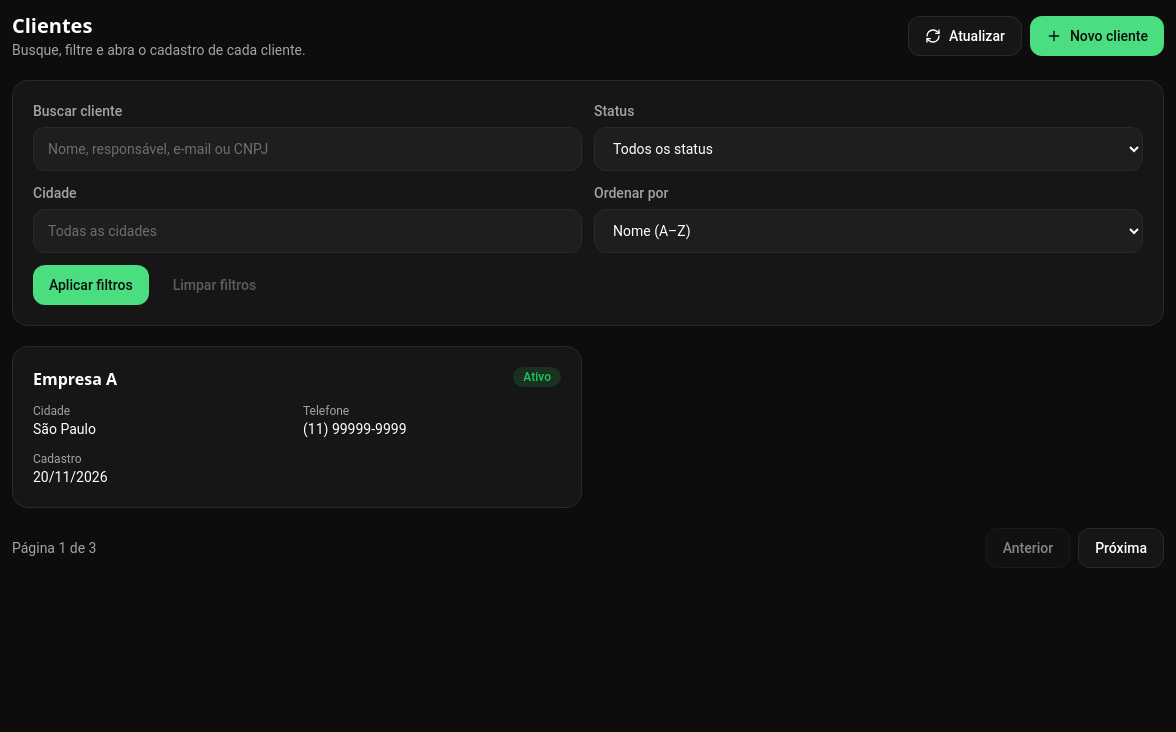
ClientsPage › usa o total do Supabase para habilitar e executar a próxima página
Expected: the link "Empresa A" is shown, [33,368,117,390]
Expected: the message reads "Página 1 de 3", [12,538,96,558]
Click the button "Próxima" at [1121, 548], box [1078,528,1164,568]
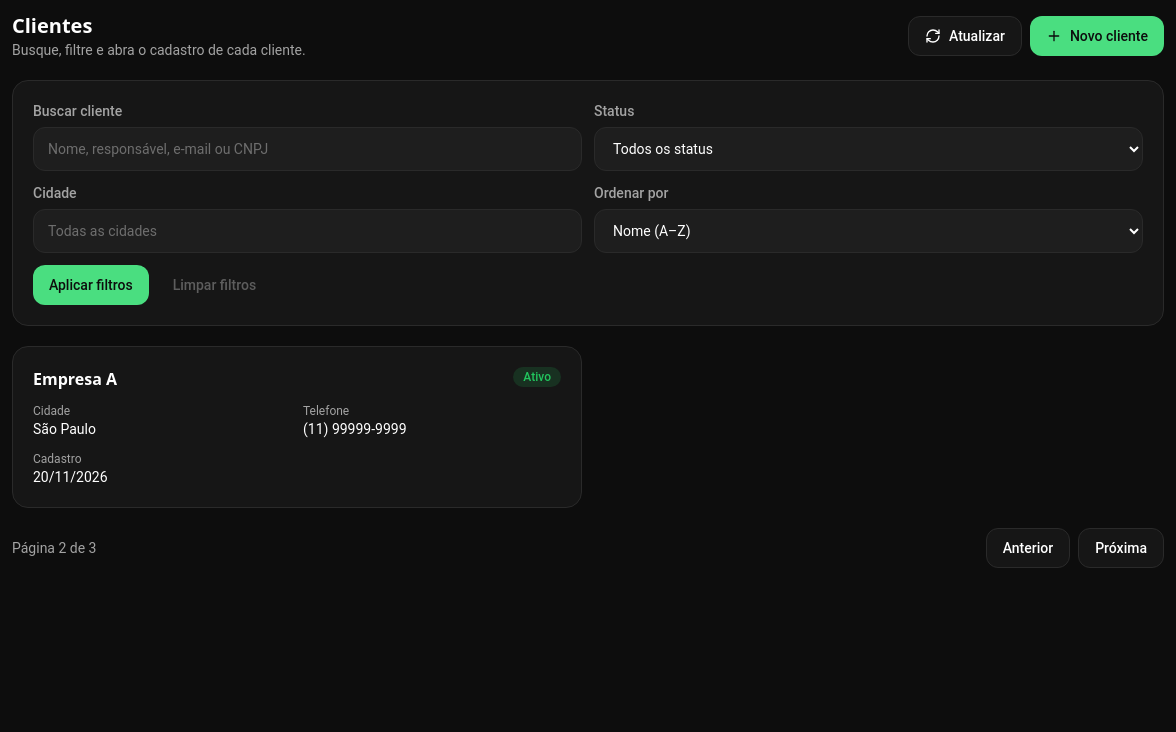
Now the text "Página 2 de 3" is shown, box [12,538,96,558]
